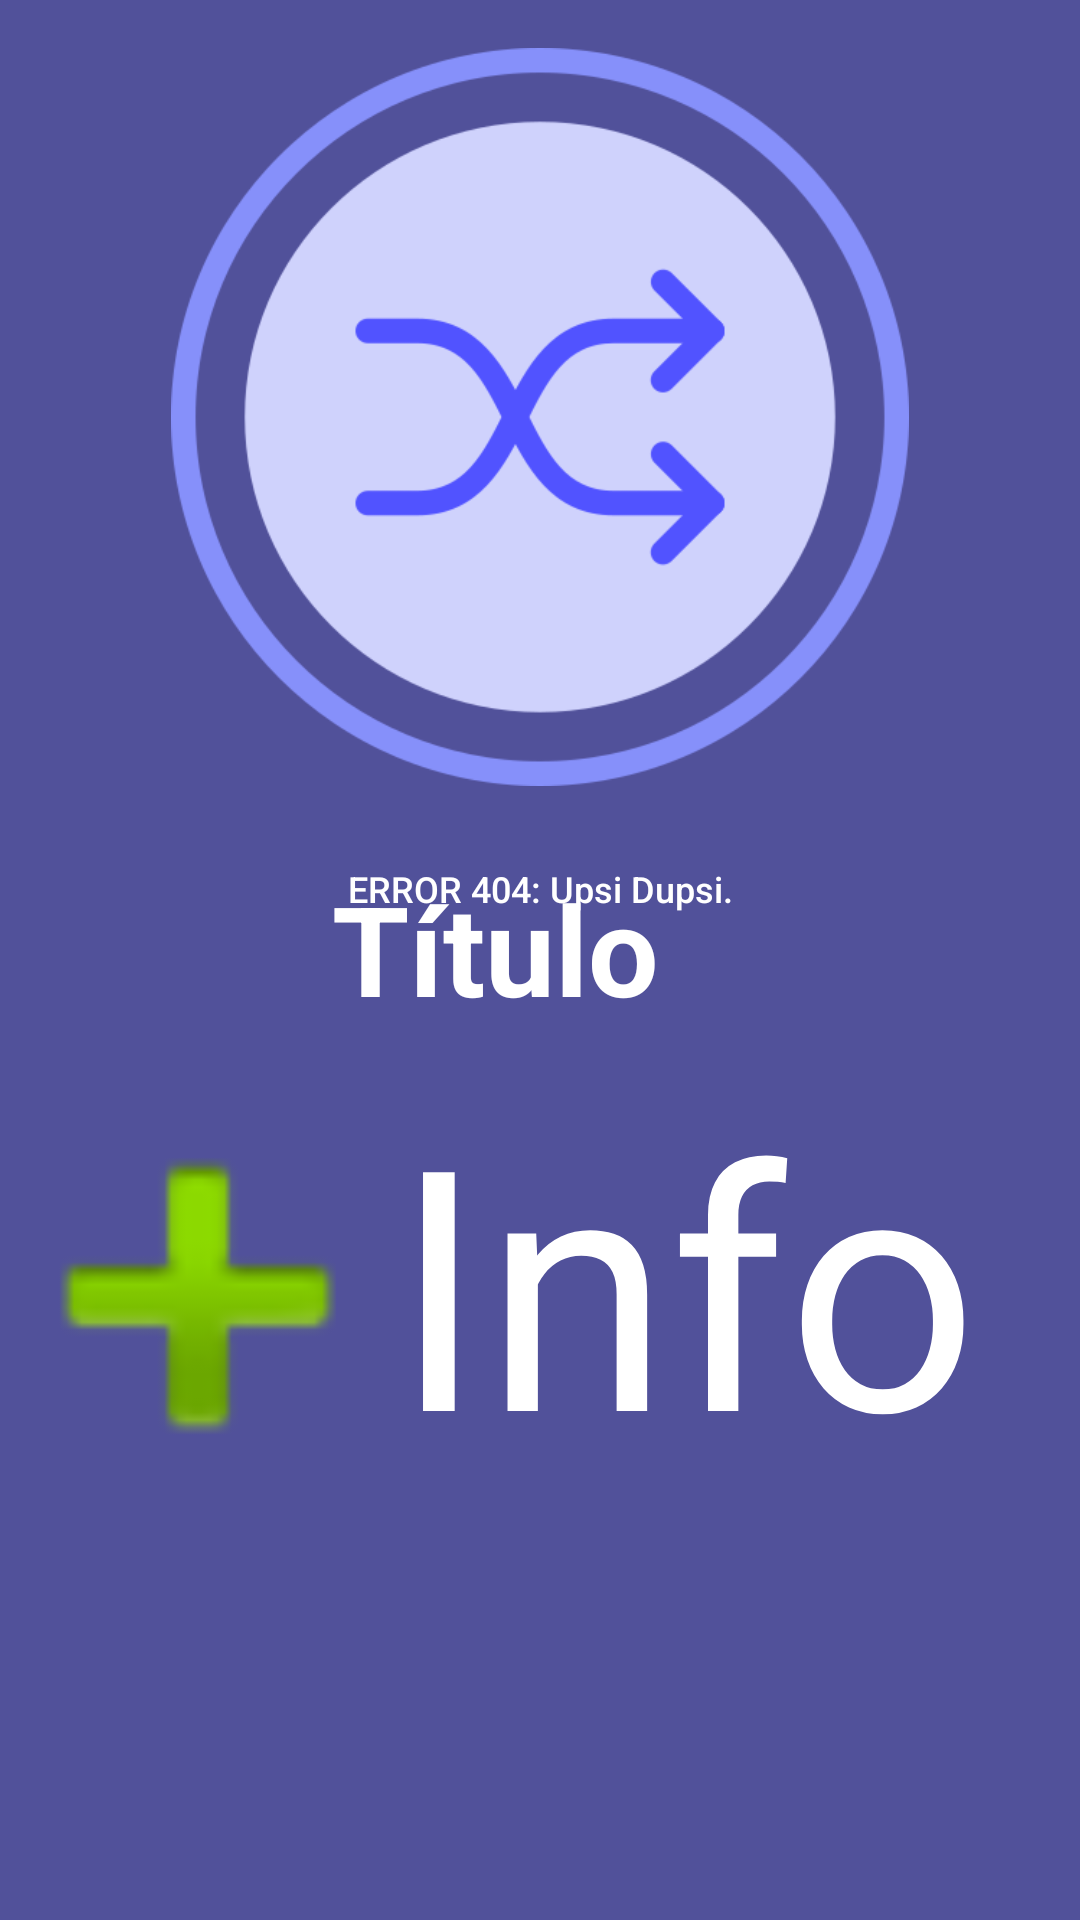

Icon bounding boxes for this 1080 x 1920 phone screenshot, format (x1, y1, x2, y2):
add: (62, 1161, 334, 1430)
